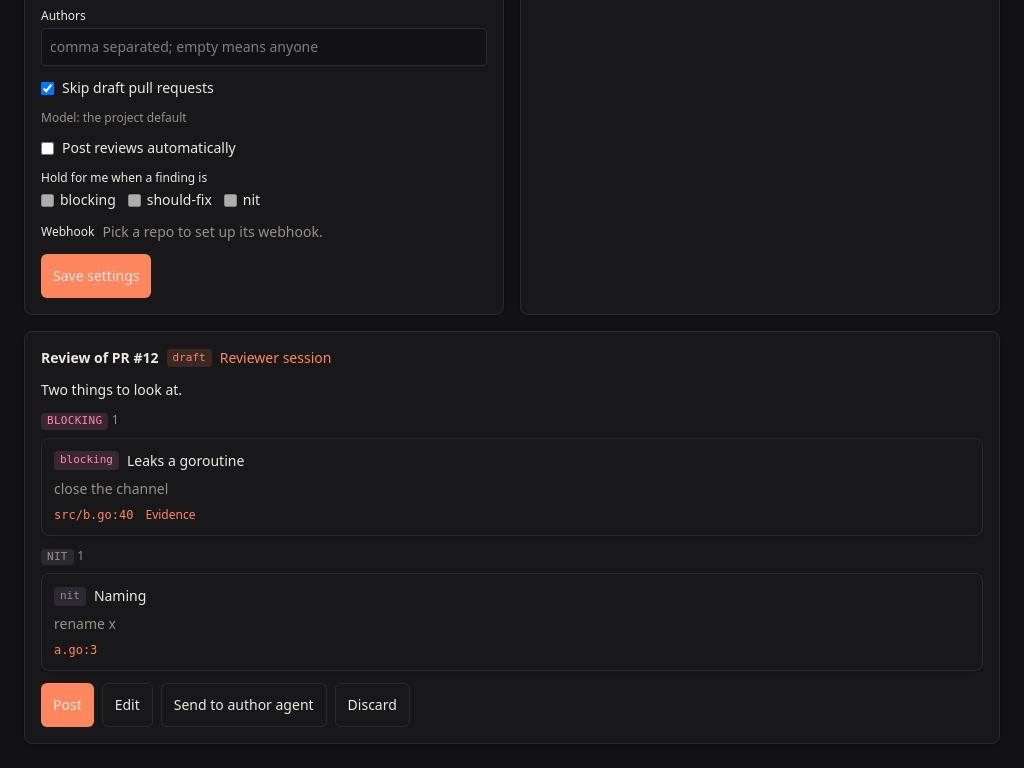
Drafts › sends the chosen findings to the author agent
(page scrolled)
Check: the element with test id "draft-view" is shown, box [41, 348, 983, 727]
Click the button "Send to author agent" at (244, 705), box [161, 683, 327, 727]
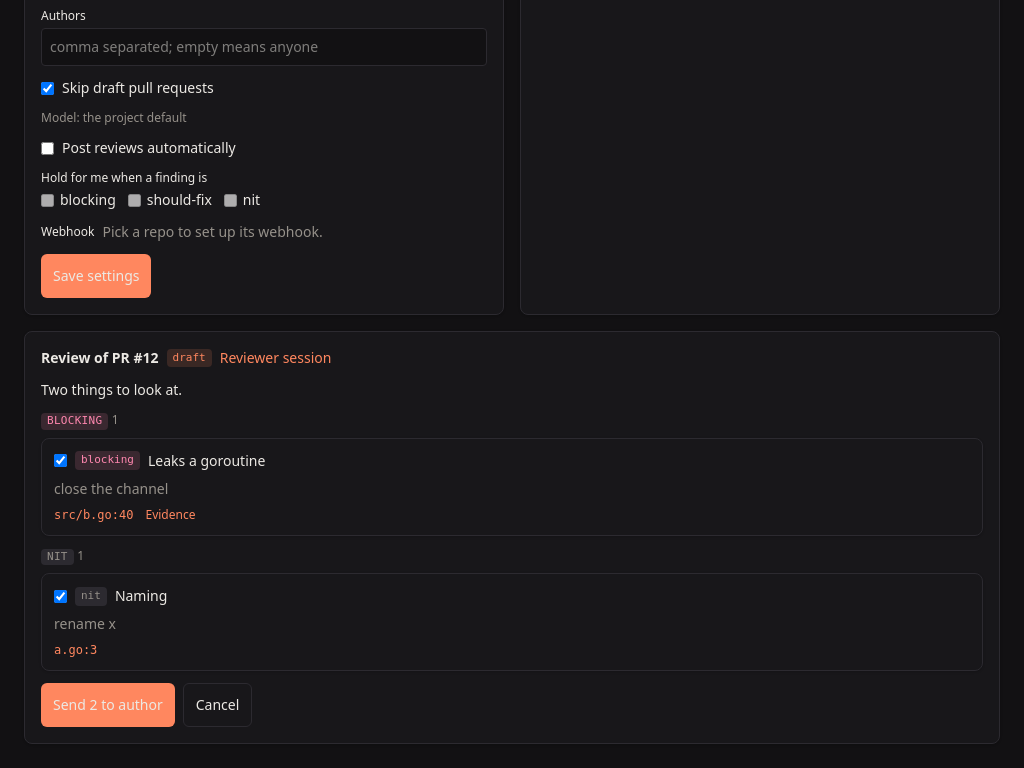
Click the checkbox named "Send Naming" at (60, 596), box [54, 590, 67, 603]
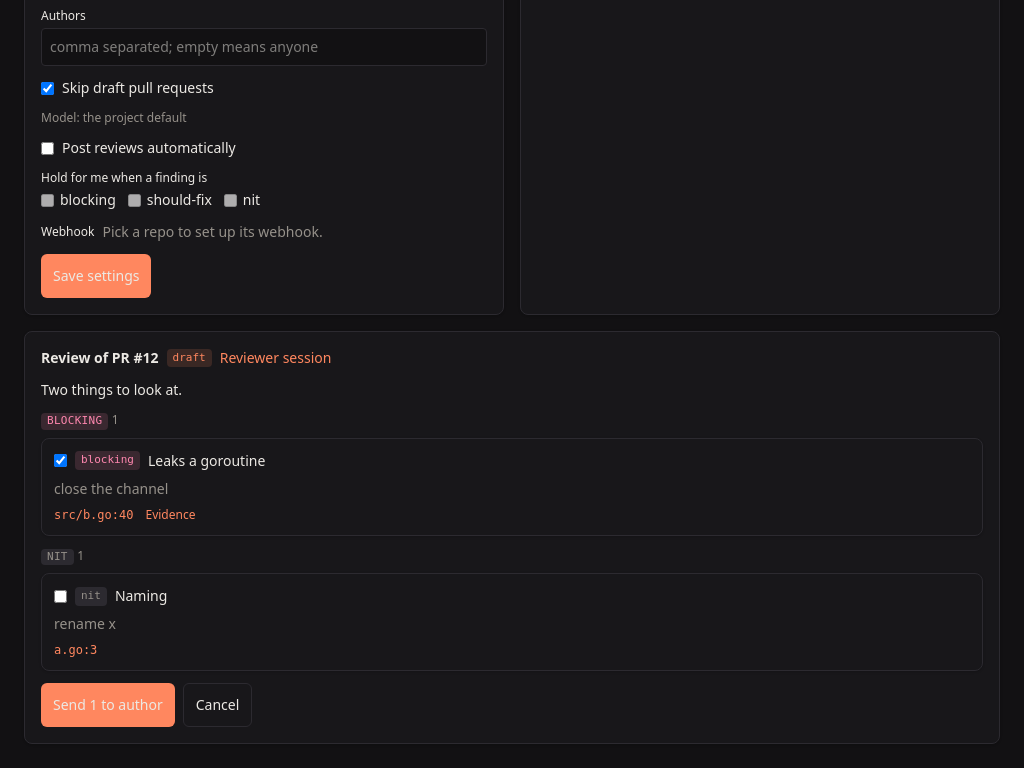
Click the button "Send 1 to author" at (108, 705), box [41, 683, 175, 727]
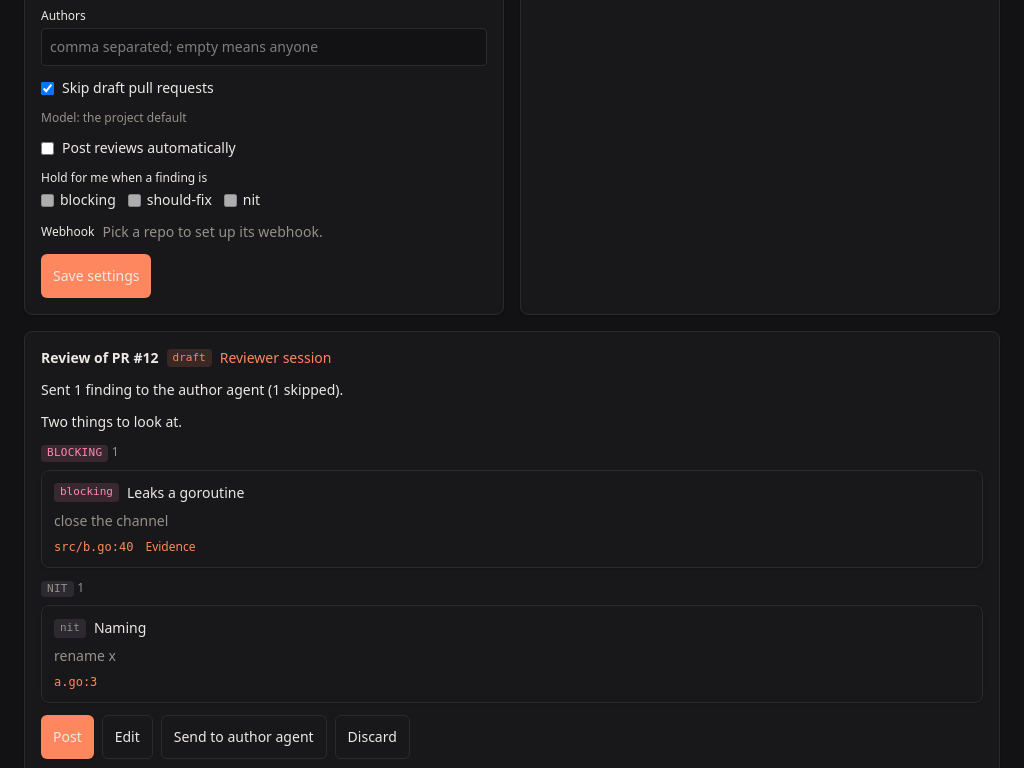
Check: the text "Sent 1 finding to the author agent (1 skipped)." is shown, box [41, 380, 343, 399]
